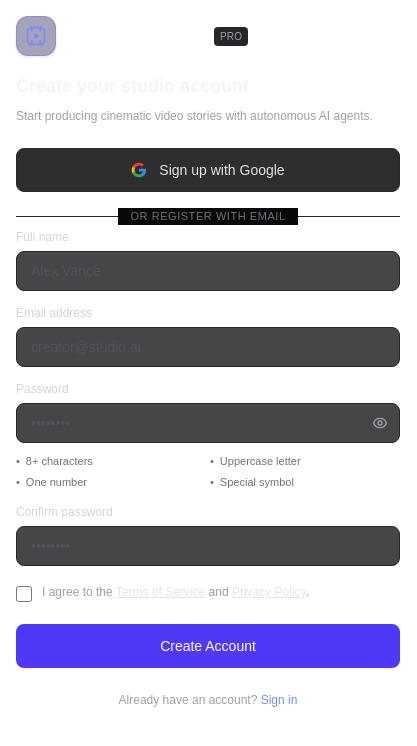
Test case: SignupForm › validates password mismatch
This screenshot has width=417, height=746.
Type "SuperSecret123!" into the password field labelled "Password" at (208, 423), box [16,403,400,443]
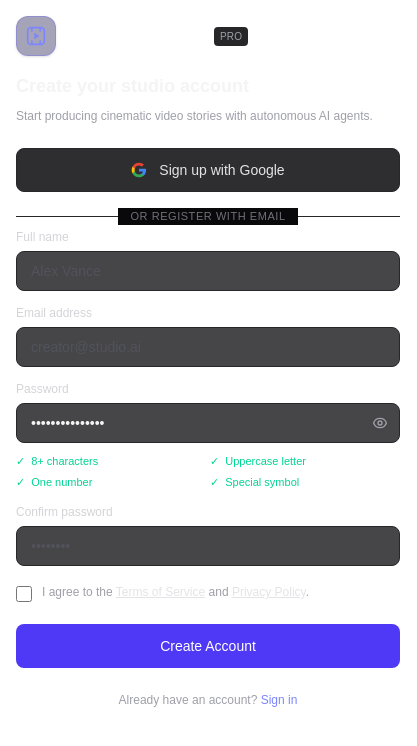
Type "DifferentPassword456!" into the password field labelled "Confirm password" at (208, 546), box [16,526,400,566]
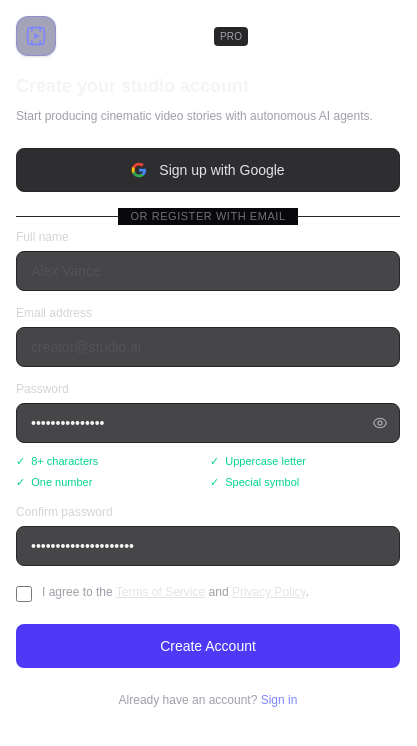
Leave the password field labelled "Confirm password", box [16,526,400,566]
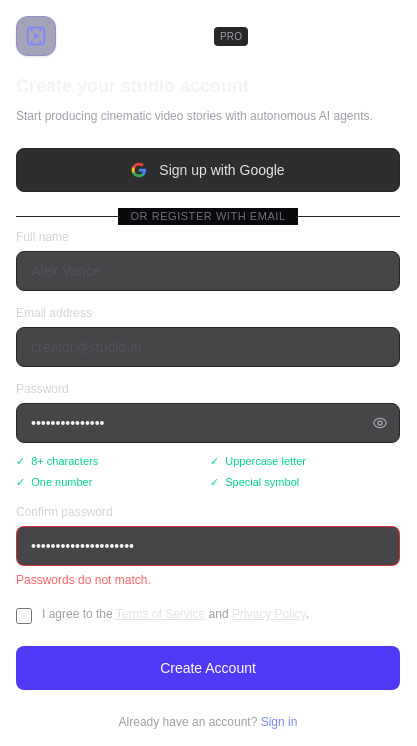
Now the text "Passwords do not match." is shown, box [16,573,151,587]
